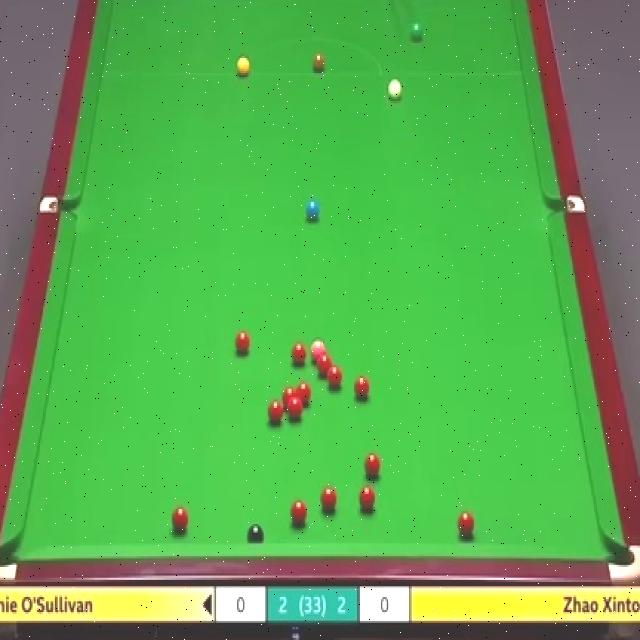black-ball: (248, 523, 268, 543)
blue-ball: (305, 201, 320, 219)
brown-ball: (312, 53, 326, 77)
green-ball: (411, 22, 422, 37)
pink-ball: (310, 340, 326, 360)
red-ball: (295, 381, 313, 409), (456, 510, 474, 538), (170, 506, 189, 532), (364, 452, 381, 481), (321, 483, 337, 513), (290, 500, 308, 526), (266, 400, 284, 425), (360, 486, 376, 511), (236, 330, 250, 356), (288, 398, 303, 420), (353, 378, 370, 397), (290, 342, 305, 363), (282, 388, 297, 408), (317, 353, 331, 374), (328, 368, 340, 390)
white-ball: (386, 78, 404, 104)
yellow-ball: (237, 56, 250, 78)
